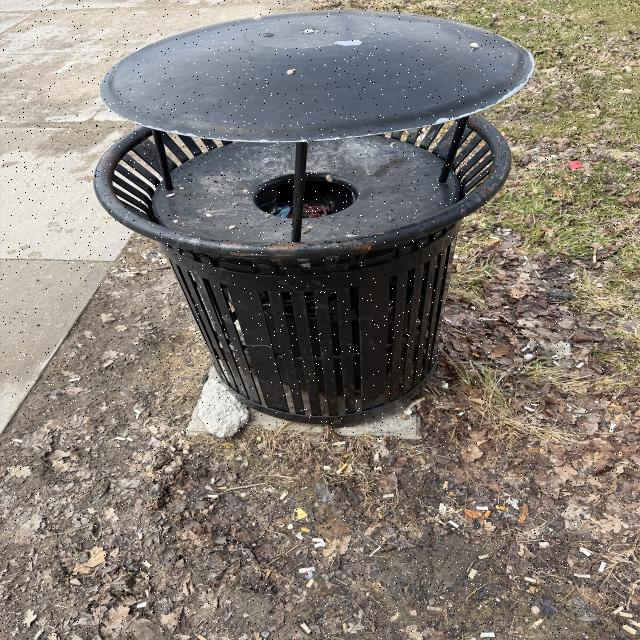Dustbin: (93, 12, 540, 427)
